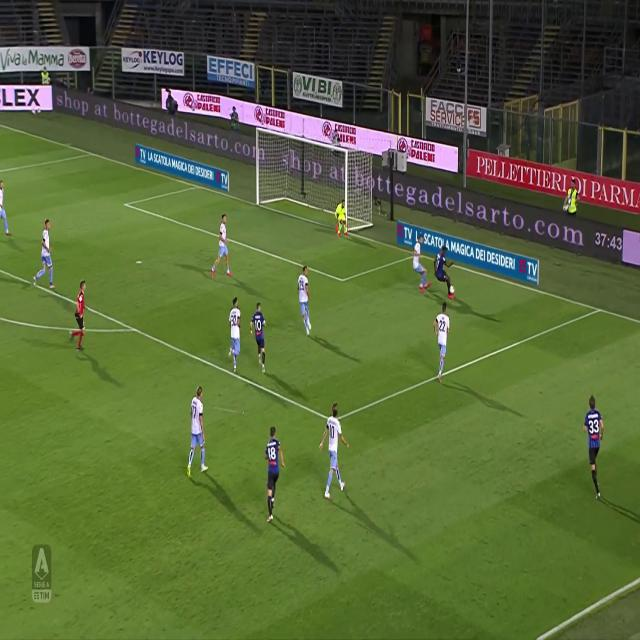Ball: (449, 282, 456, 296)
GoalKeeper: (335, 200, 348, 239)
TEAM 1: (321, 407, 351, 497), (187, 386, 209, 478), (36, 220, 57, 291), (210, 214, 232, 281), (433, 309, 450, 382), (1, 176, 18, 245), (227, 300, 242, 372), (297, 267, 312, 336), (411, 241, 429, 294)
TEAM 2: (265, 427, 286, 520), (584, 397, 602, 494), (252, 305, 268, 372), (434, 249, 455, 300)
